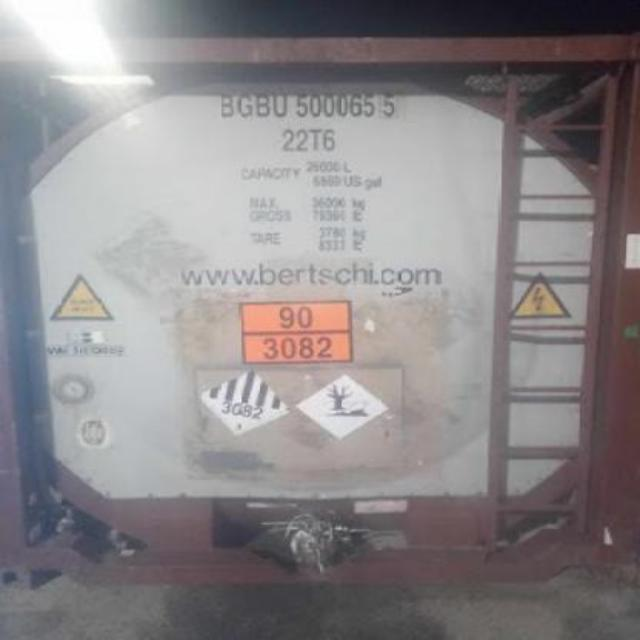0: (322, 93, 336, 117), (336, 93, 349, 117), (310, 93, 322, 117)
5: (294, 92, 310, 116), (362, 92, 378, 116), (382, 92, 398, 116)
6: (350, 93, 362, 117)
B: (255, 92, 271, 118), (219, 92, 235, 116)
G: (236, 92, 256, 116)
U: (272, 92, 290, 118)
